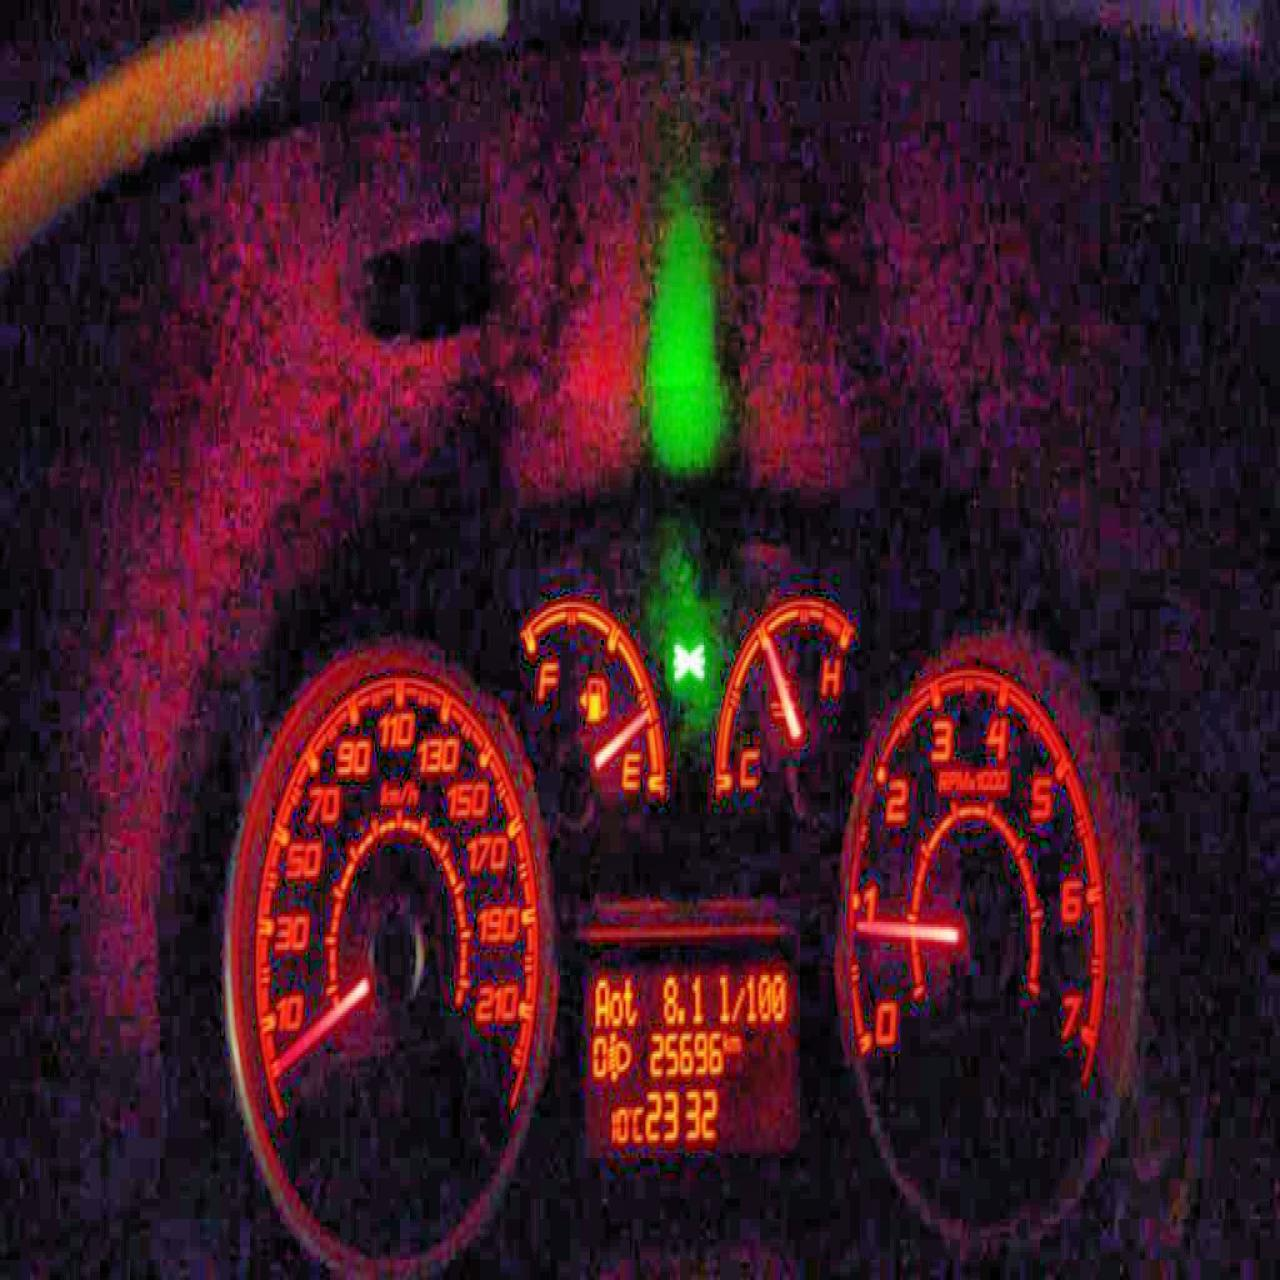-: (676, 1006, 684, 1024)
0: (756, 973, 772, 1021), (592, 1031, 608, 1077), (772, 973, 786, 1018), (615, 1105, 627, 1143)
1: (745, 970, 756, 1021), (692, 973, 702, 1021), (610, 1107, 615, 1143)
2: (644, 1090, 661, 1140), (700, 1084, 716, 1136), (648, 1031, 664, 1077)
3: (661, 1087, 679, 1140), (682, 1087, 700, 1138)
5: (664, 1031, 678, 1074)
6: (678, 1029, 692, 1074), (708, 1028, 722, 1072)
8: (662, 973, 678, 1021)
9: (692, 1029, 706, 1074)
X: (594, 975, 610, 1026), (622, 975, 638, 1024), (718, 973, 730, 1021), (630, 1102, 644, 1143), (730, 983, 745, 1021), (608, 988, 622, 1026)
odometer: (576, 945, 804, 1158)
